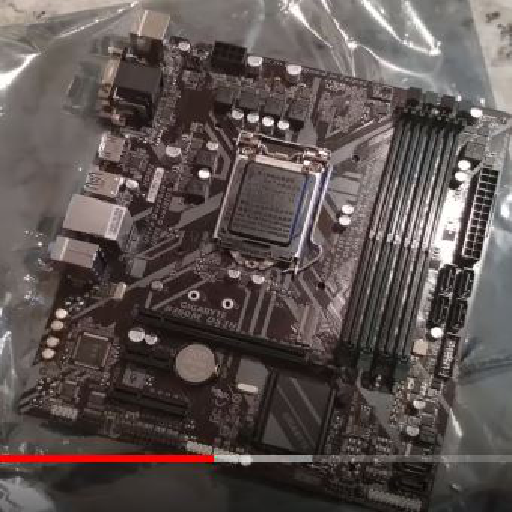CPU: (211, 149, 325, 273)
GPU: (131, 305, 322, 375)
MOTHERBOARD: (20, 18, 501, 506)
RAM: (335, 87, 468, 392)
SSD: (294, 301, 324, 348)
